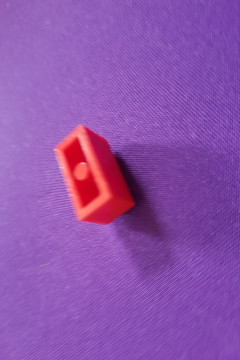1x2 red: (50, 126, 135, 228)
